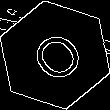O_SE: (21, 22, 89, 88)
